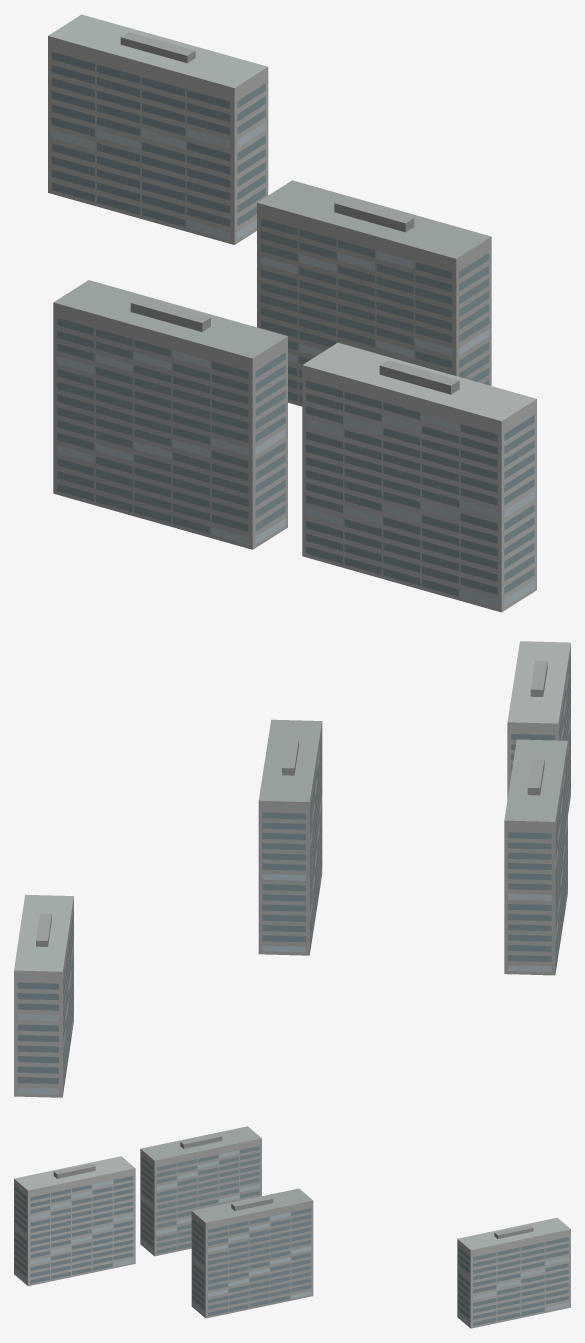
File: apt-a15809402.glb
The picture shows the model from 3 angles, top to bottom: view 1: azimuth 30°, elevation 25°; view 2: azimuth 150°, elevation 25°; view 3: azimuth 270°, elevation 25°; orthographic projection. The views are drawn at different scales.
Parts seen in each view (by area): view 1: apt-a15809402; view 2: apt-a15809402; view 3: apt-a15809402.
Part boxes in pixels (x1=…): apt-a15809402: x1=48, y1=14, x2=536, y2=612; apt-a15809402: x1=14, y1=641, x2=570, y2=1097; apt-a15809402: x1=14, y1=1126, x2=570, y2=1328.
Size of the model in its own units: 89.19 by 39 by 197.
